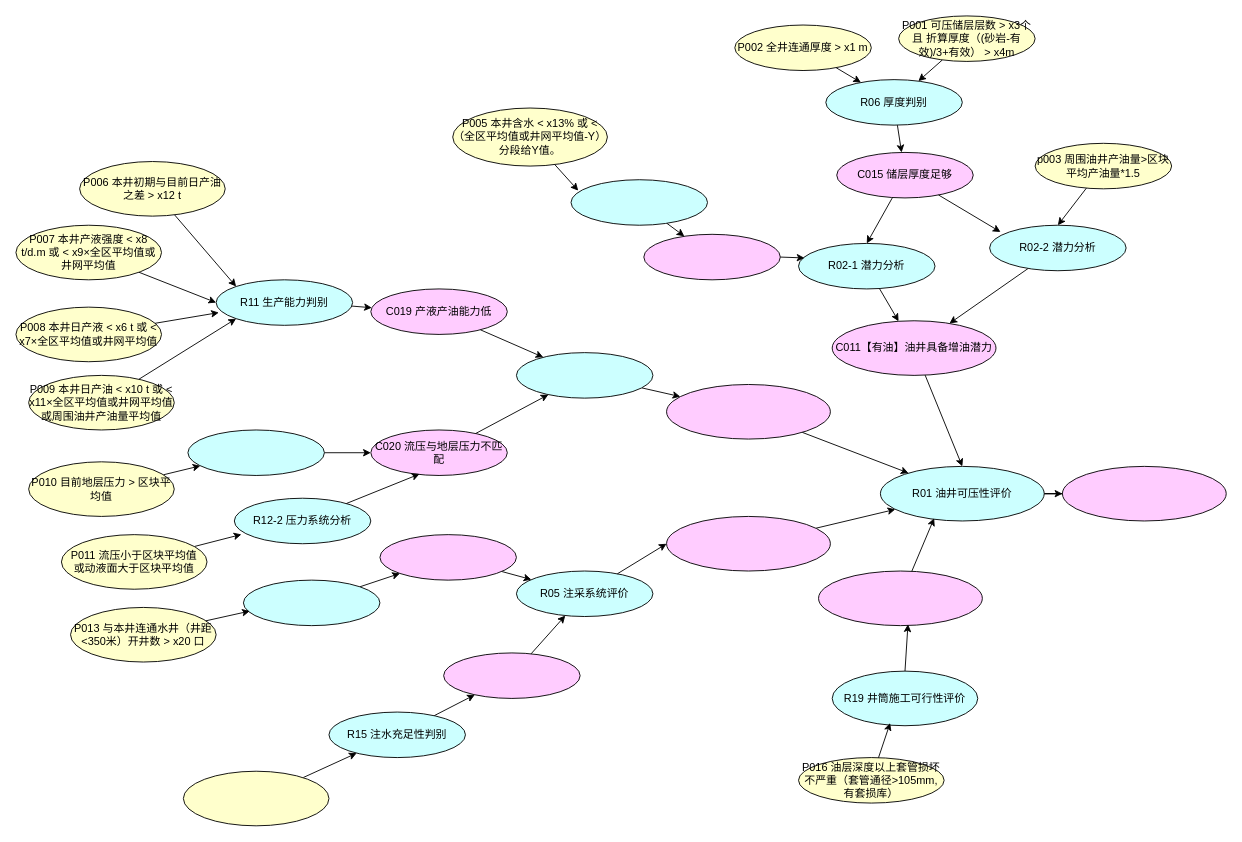
Image size: 1242x842. Some labels were removed from this diagram. Each missing label, with the centre of its shape:
"C001 油井具备可压性" goes at point (1144, 493).
"C012【可动】当前生产动态显示低效特征" goes at point (748, 411).
"C013【安全】井筒状况完好允许安全施工" goes at point (900, 598).
"C014【能补】井组注采系统提供有效支持" goes at point (748, 543).
"C018 含水不高" goes at point (711, 256).
"C022 良好的连通性" goes at point (447, 557).
"C023 充足的注水保障" goes at point (511, 675).
"P015 与本井连通水井配注完成率 > x22%（提出水井配套措施）" goes at point (255, 798).
"R03 低效判别" goes at point (584, 375).
"R10 含水判别" goes at point (639, 202).
"R12-1 压力系统分析" goes at point (255, 452).
"R14 连通性判别" goes at point (311, 602).
